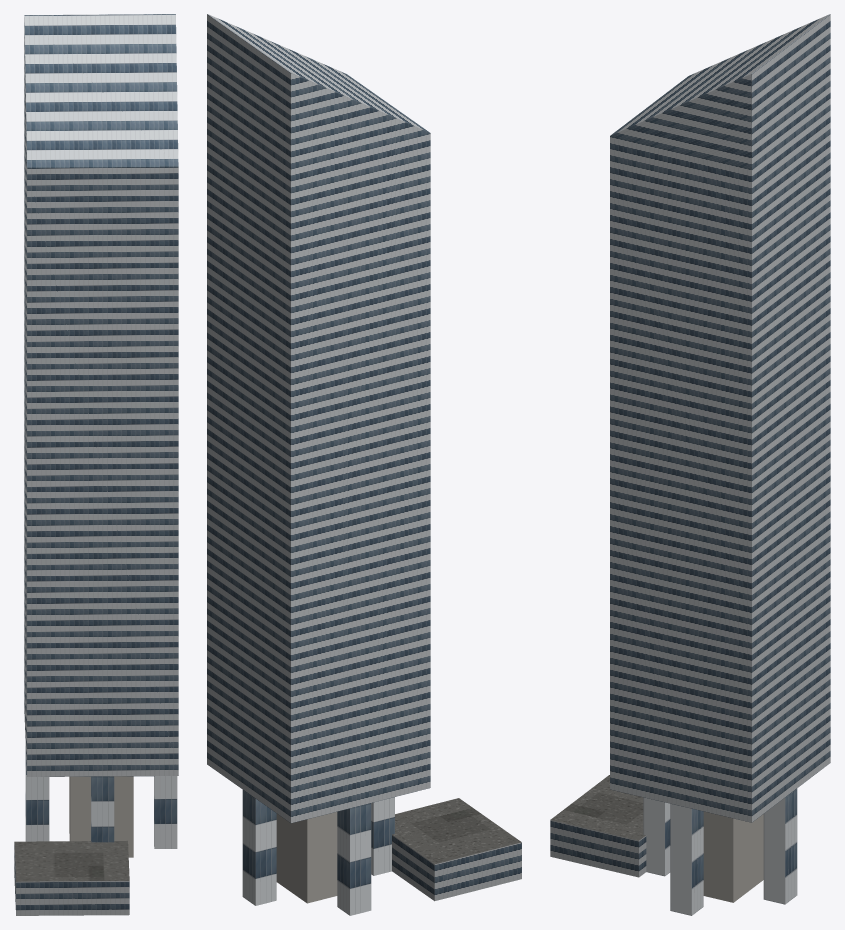
The model's file is citi.glb.
3 views of the same model, side by side, from view 1: azimuth 30°, elevation 25°; view 2: azimuth 150°, elevation 25°; view 3: azimuth 270°, elevation 25° (orthographic). The views are drawn at different scales.
Visible parts, largest first — view 1: citi; view 2: citi; view 3: citi.
Part boxes in pixels (left/top/right/bottom): citi: left=14, top=14, right=178, bottom=915; citi: left=207, top=14, right=521, bottom=915; citi: left=550, top=14, right=830, bottom=915.
Bounding box in the file's own units: 82.81 × 279 × 82.86.
Materials: 11 (10 with a texture image).
